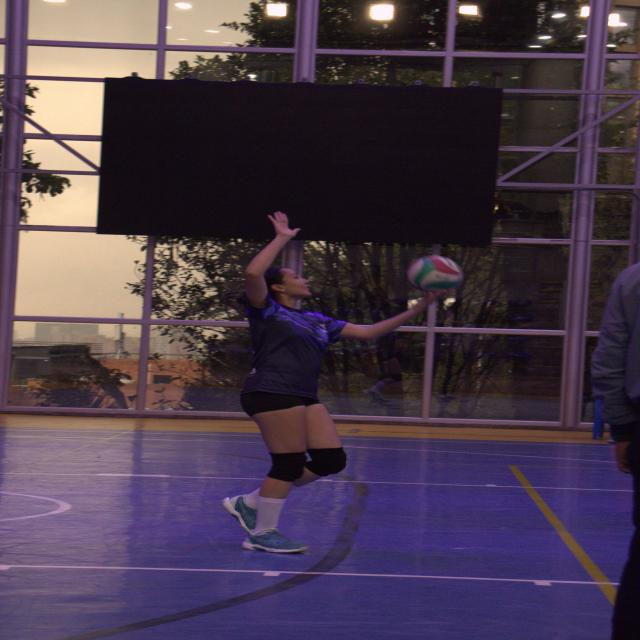volleyball: (407, 255, 463, 292)
